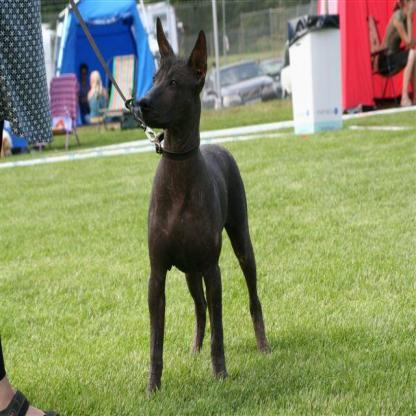Mexican_hairless: (137, 14, 270, 393)
